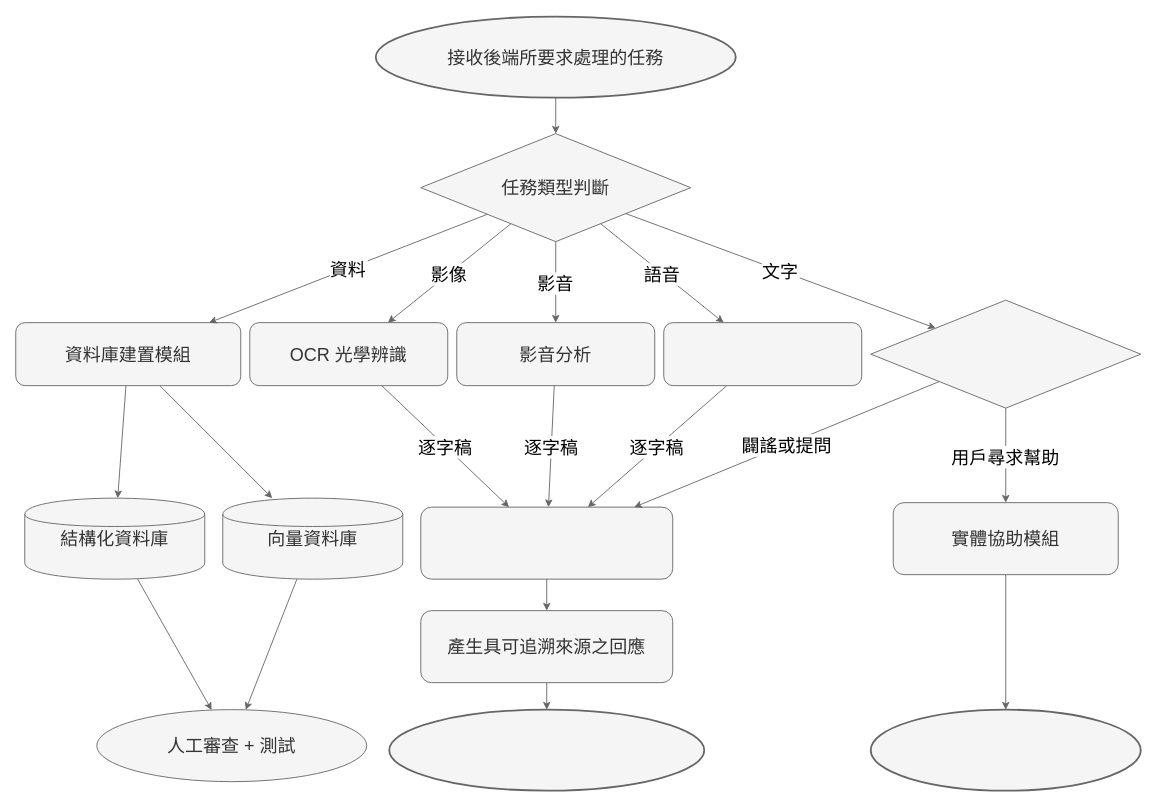
Image size: 1157x806. Some labels were removed from this diagram. Each missing label, with the centre of its shape:
"RAG 查詢模組" goes at (x=546, y=542).
"使用者意圖判斷" goes at (x=1005, y=353).
"回傳闢謠結果與說明" goes at (x=546, y=749).
"幫助用戶達成目的" goes at (x=1005, y=749).
"語音處理" goes at (x=762, y=354).
